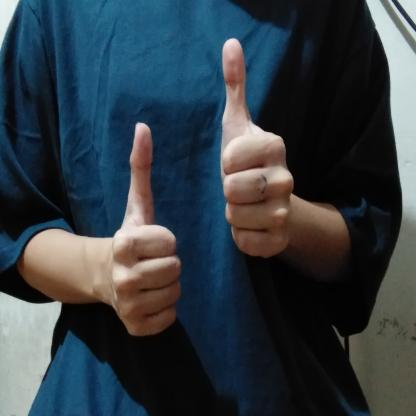which: (106, 33, 299, 345)
